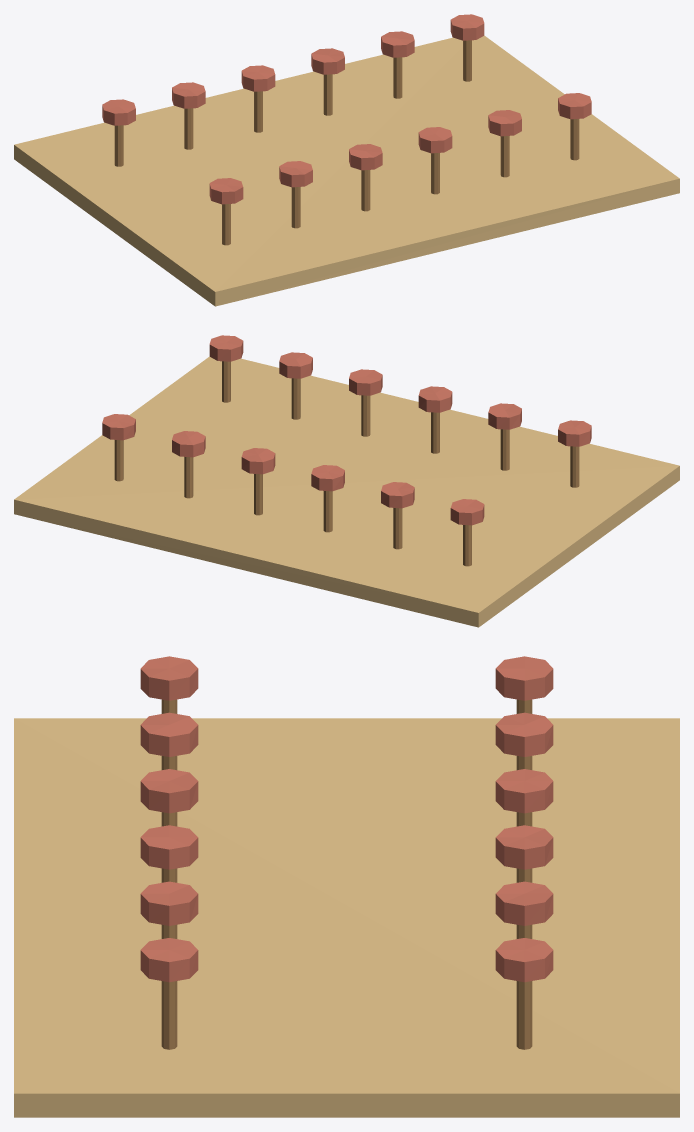
Rendered from butterfly-garden.source.glb.
3 views of the same model, one above another, from view 1: azimuth 30°, elevation 25°; view 2: azimuth 150°, elevation 25°; view 3: azimuth 270°, elevation 25° (orthographic). The views are drawn at different scales.
Parts seen in each view (by area): view 1: butterfly-garden-bed-mesh, butterfly-garden-flower-5-mesh, butterfly-garden-flower-9-mesh, butterfly-garden-flower-2-mesh, butterfly-garden-flower-6-mesh, butterfly-garden-flower-4-mesh, butterfly-garden-flower-0-mesh, butterfly-garden-flower-1-mesh, butterfly-garden-flower-3-mesh, butterfly-garden-flower-8-mesh, butterfly-garden-flower-10-mesh, butterfly-garden-flower-7-mesh (+1 smaller); view 2: butterfly-garden-bed-mesh, butterfly-garden-flower-11-mesh, butterfly-garden-flower-3-mesh, butterfly-garden-flower-0-mesh, butterfly-garden-flower-8-mesh, butterfly-garden-flower-10-mesh, butterfly-garden-flower-6-mesh, butterfly-garden-flower-7-mesh, butterfly-garden-flower-2-mesh, butterfly-garden-flower-4-mesh, butterfly-garden-flower-9-mesh, butterfly-garden-flower-1-mesh (+1 smaller); view 3: butterfly-garden-bed-mesh, butterfly-garden-flower-3-mesh, butterfly-garden-flower-9-mesh, butterfly-garden-flower-0-mesh, butterfly-garden-flower-6-mesh, butterfly-garden-flower-4-mesh, butterfly-garden-flower-10-mesh, butterfly-garden-flower-2-mesh, butterfly-garden-flower-8-mesh, butterfly-garden-flower-1-mesh, butterfly-garden-flower-7-mesh, butterfly-garden-flower-5-mesh (+3 smaller).
Part boxes in pixels (left/top/right/bottom): butterfly-garden-bed-mesh: left=14, top=35, right=679, bottom=306; butterfly-garden-flower-5-mesh: left=450, top=14, right=484, bottom=40; butterfly-garden-flower-9-mesh: left=418, top=127, right=452, bottom=153; butterfly-garden-flower-2-mesh: left=241, top=65, right=275, bottom=91; butterfly-garden-flower-6-mesh: left=209, top=178, right=243, bottom=204; butterfly-garden-flower-4-mesh: left=381, top=31, right=414, bottom=57; butterfly-garden-flower-0-mesh: left=102, top=99, right=135, bottom=125; butterfly-garden-flower-1-mesh: left=172, top=82, right=205, bottom=108; butterfly-garden-flower-3-mesh: left=311, top=48, right=344, bottom=74; butterfly-garden-flower-8-mesh: left=349, top=144, right=382, bottom=170; butterfly-garden-flower-10-mesh: left=488, top=110, right=521, bottom=136; butterfly-garden-flower-7-mesh: left=279, top=161, right=312, bottom=187; butterfly-garden-bed-mesh: left=14, top=356, right=679, bottom=627; butterfly-garden-flower-11-mesh: left=209, top=335, right=243, bottom=361; butterfly-garden-flower-3-mesh: left=241, top=448, right=275, bottom=474; butterfly-garden-flower-0-mesh: left=450, top=499, right=484, bottom=525; butterfly-garden-flower-8-mesh: left=418, top=386, right=452, bottom=412; butterfly-garden-flower-10-mesh: left=279, top=352, right=312, bottom=378; butterfly-garden-flower-6-mesh: left=558, top=420, right=591, bottom=446; butterfly-garden-flower-7-mesh: left=488, top=403, right=521, bottom=429; butterfly-garden-flower-2-mesh: left=311, top=465, right=344, bottom=491; butterfly-garden-flower-4-mesh: left=172, top=431, right=205, bottom=457; butterfly-garden-flower-9-mesh: left=349, top=369, right=382, bottom=395; butterfly-garden-flower-1-mesh: left=381, top=482, right=414, bottom=508; butterfly-garden-bed-mesh: left=14, top=718, right=679, bottom=1117; butterfly-garden-flower-3-mesh: left=495, top=825, right=553, bottom=869; butterfly-garden-flower-9-mesh: left=140, top=825, right=198, bottom=869; butterfly-garden-flower-0-mesh: left=495, top=656, right=553, bottom=700; butterfly-garden-flower-6-mesh: left=140, top=656, right=198, bottom=700; butterfly-garden-flower-4-mesh: left=495, top=881, right=553, bottom=925; butterfly-garden-flower-10-mesh: left=140, top=881, right=198, bottom=925; butterfly-garden-flower-2-mesh: left=495, top=769, right=553, bottom=813; butterfly-garden-flower-8-mesh: left=140, top=769, right=198, bottom=813; butterfly-garden-flower-1-mesh: left=495, top=712, right=553, bottom=756; butterfly-garden-flower-7-mesh: left=140, top=712, right=198, bottom=756; butterfly-garden-flower-5-mesh: left=495, top=938, right=553, bottom=982.
Bounding box in the file's own units: 4 × 0.6 × 3.
